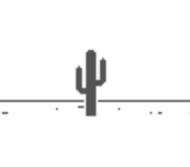t-rex: (73, 46, 109, 118)
